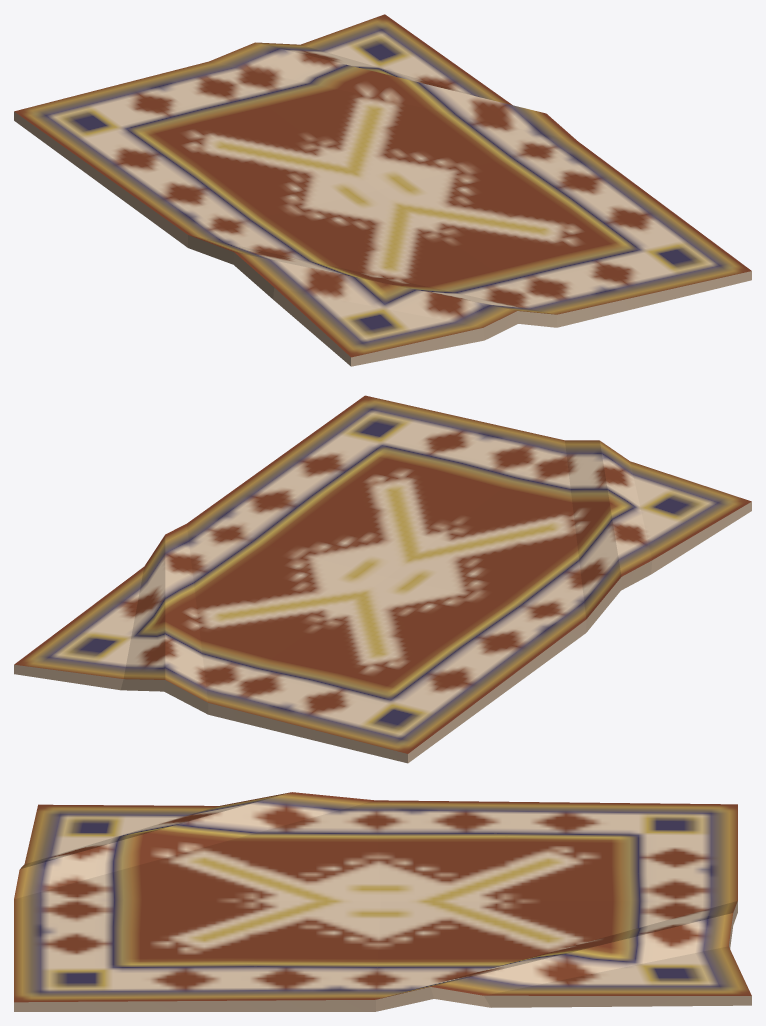
Rendered from SM_Prop_Rug_17.fbx.
3 renders of one model, top to bottom at view 1: azimuth 30°, elevation 25°; view 2: azimuth 150°, elevation 25°; view 3: azimuth 270°, elevation 25°, orthographic. The views are drawn at different scales.
Visible parts, largest first — view 1: SM_Prop_Rug_17; view 2: SM_Prop_Rug_17; view 3: SM_Prop_Rug_17.
Part boxes in pixels (left/top/right/bottom): SM_Prop_Rug_17: left=14, top=14, right=751, bottom=366; SM_Prop_Rug_17: left=14, top=395, right=751, bottom=763; SM_Prop_Rug_17: left=14, top=792, right=751, bottom=1011.
Bounding box in the file's own units: 148 × 9.08 × 233.
